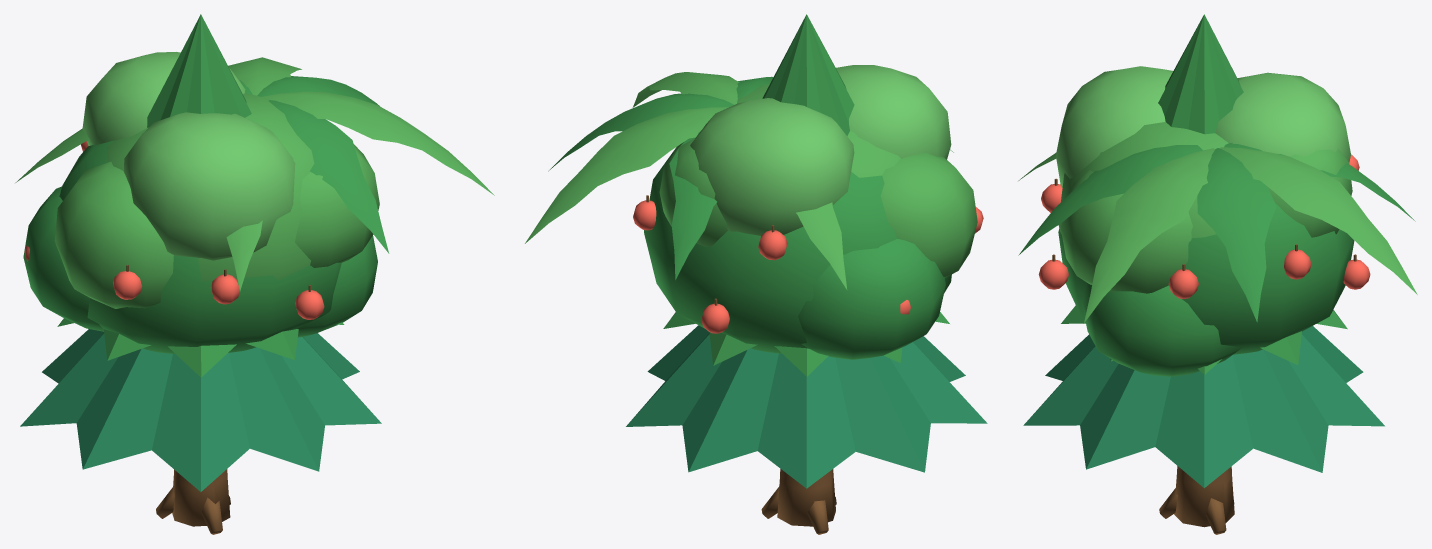
File: arvores.glb
The picture shows the model from 3 angles, left to right: view 1: azimuth 30°, elevation 25°; view 2: azimuth 150°, elevation 25°; view 3: azimuth 270°, elevation 25°; orthographic projection.
Parts seen in each view (by area): view 1: arvore-pinheiro, arvore-frutas, arvore-redonda, coqueiro; view 2: arvore-frutas, arvore-pinheiro, arvore-redonda, coqueiro; view 3: arvore-pinheiro, arvore-frutas, coqueiro, arvore-redonda.
Boxes of the visible parts, box(x1,y1,x2,y2) form: arvore-pinheiro: box(20, 14, 381, 525); arvore-frutas: box(24, 52, 379, 534); arvore-redonda: box(23, 93, 377, 526); coqueiro: box(15, 57, 494, 291); arvore-frutas: box(633, 98, 983, 534); arvore-pinheiro: box(626, 14, 987, 526); arvore-redonda: box(659, 65, 951, 526); coqueiro: box(525, 72, 953, 289); arvore-pinheiro: box(1023, 14, 1384, 526); arvore-frutas: box(1038, 72, 1370, 534); coqueiro: box(1018, 143, 1417, 322); arvore-redonda: box(1056, 66, 1352, 527).
Size of the model in its own units: 3.5 by 4.4 by 3.17.
